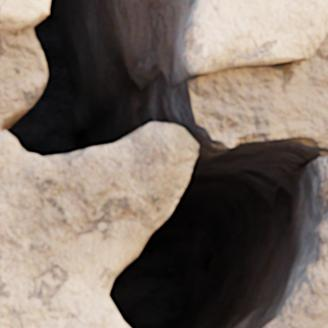broken_brick: (0, 123, 197, 327), (181, 0, 327, 76), (263, 156, 327, 327), (0, 0, 49, 32)
crack: (1, 0, 326, 327)
